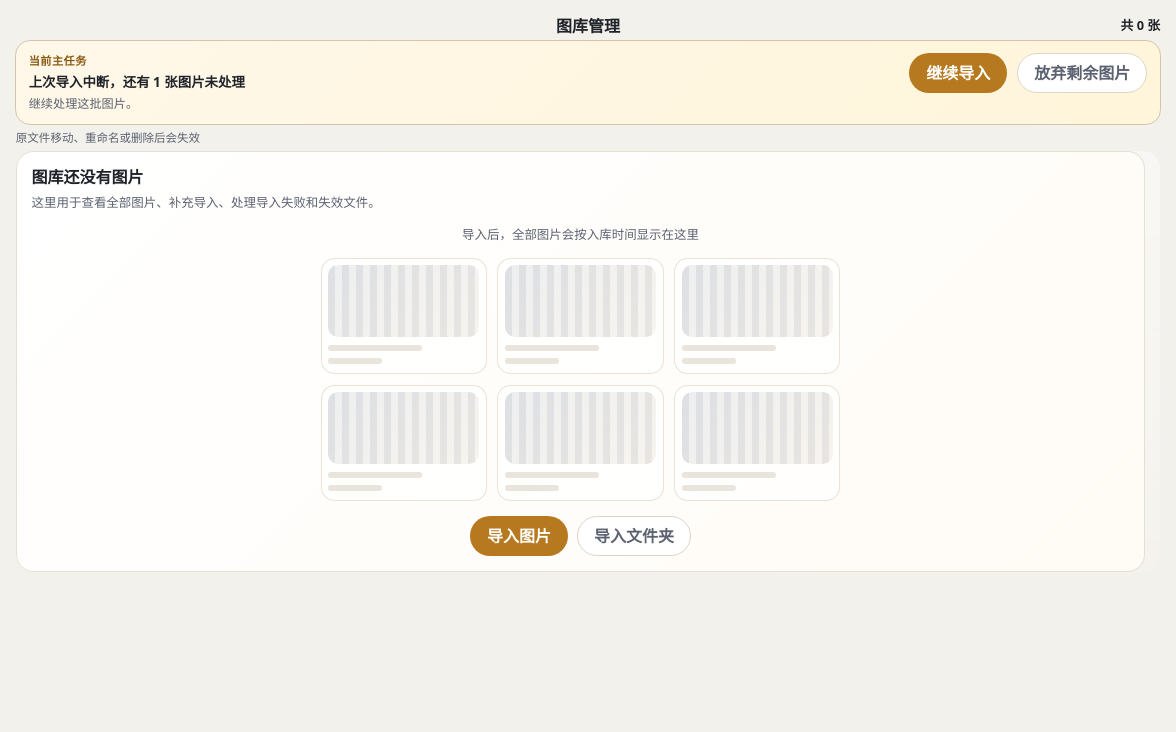
Test: LibraryView 入库恢复提示 › 点击放弃剩余图片后隐藏恢复提示
Click the button "放弃剩余图片". click: (1082, 73)
box: [1017, 53, 1147, 93]
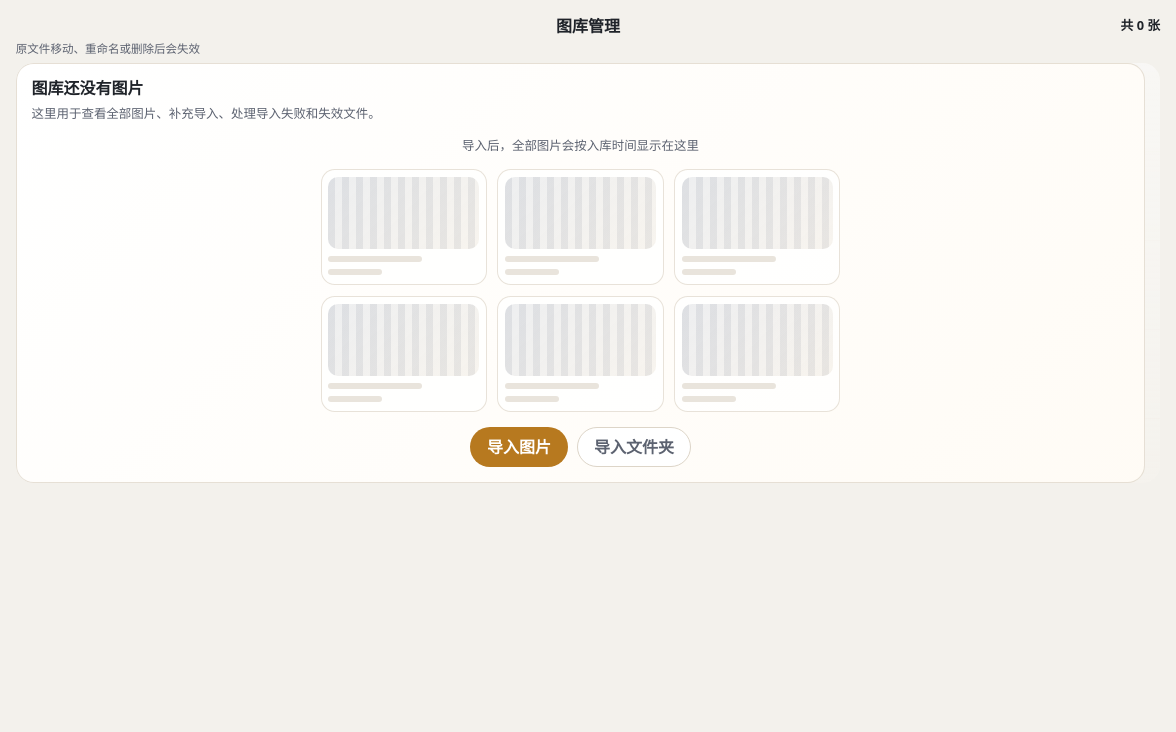
Expected: the text "上次导入中断，还有 1 张图片未处理" is gone
